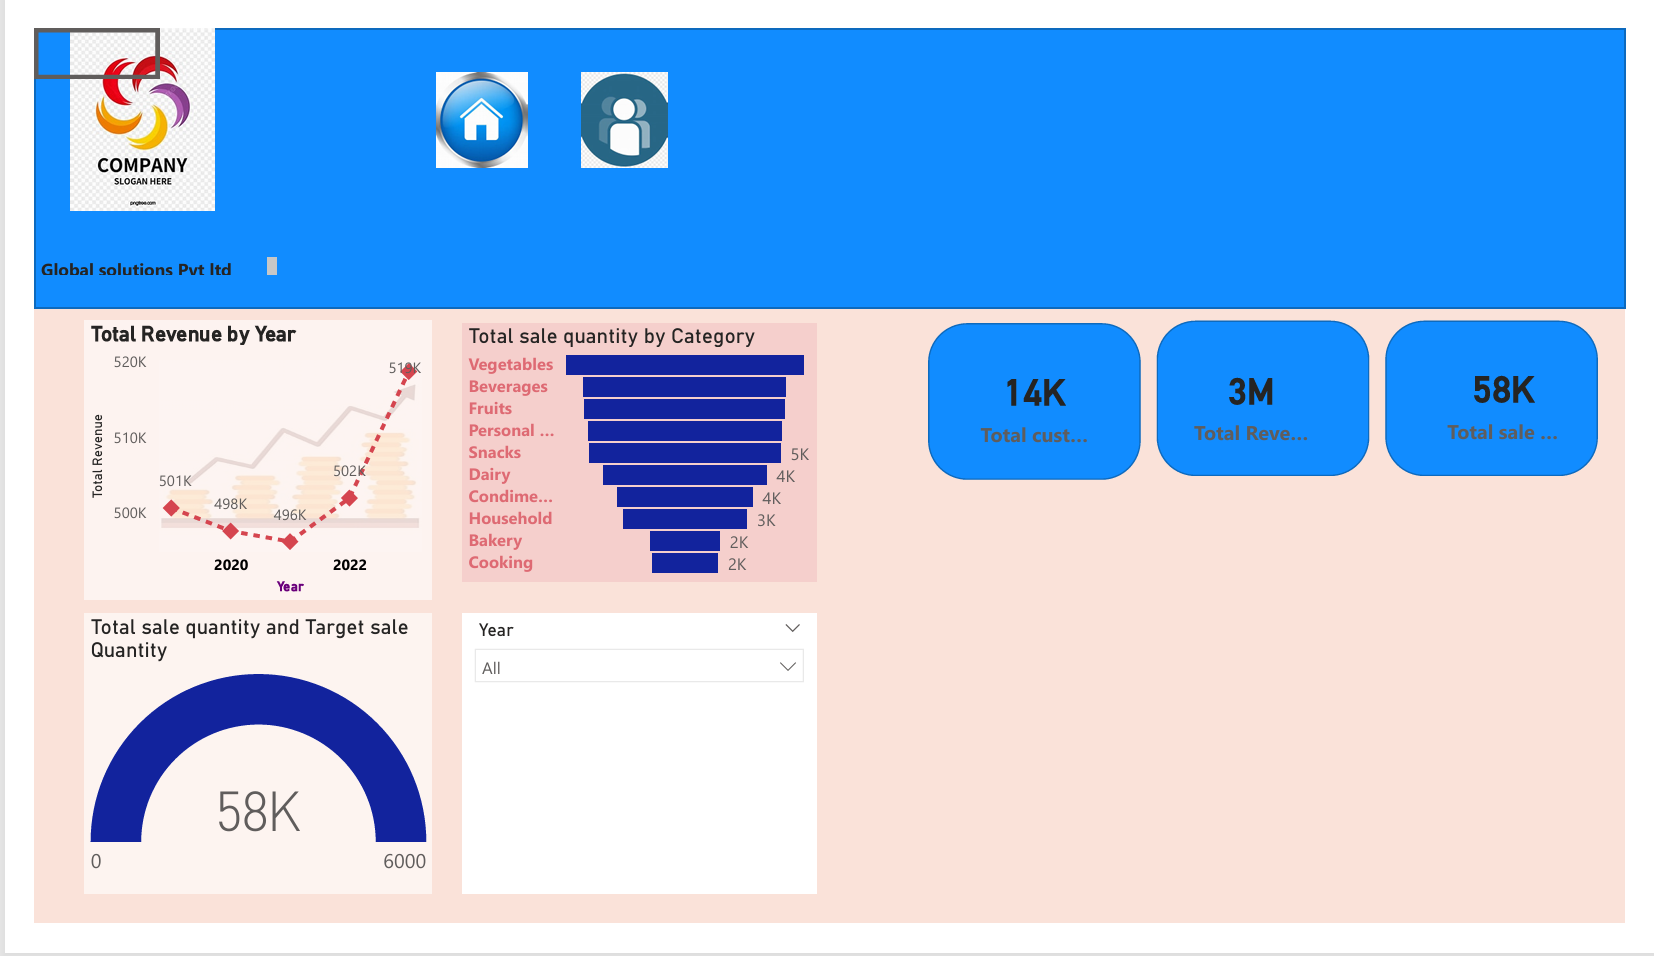

This screenshot's page, from the dashboard's own definition file:
{"tool":"powerbi","page":{"name":"Dashboard","canvas":[1280,720],"ordinal":0},"visuals":[{"type":"shape","box":[0,0,1280,224.9],"z":0},{"type":"image","box":[26.8,0,120.5,147.3],"z":1000},{"type":"textbox","box":[0,179.1,200,24.4],"z":2000},{"type":"image","box":[310.5,34.9,98.8,76.7],"z":3000},{"type":"image","box":[426.7,34.9,95.3,76.7],"z":4000},{"type":"lineChart","fields":{"Y":["MY MEASURES.Total Revenue"],"Category":["calendar.Year"]},"box":[39.5,234.9,280.2,225.6],"z":5000},{"type":"shape","box":[718.6,237.2,170.9,125.6],"z":6000},{"type":"card","fields":{"Values":["MY MEASURES.Total customers"]},"box":[752.3,253.5,104.7,96.5],"z":7000},{"type":"shape","box":[903.5,234.9,170.9,125.6],"z":8000},{"type":"shape","box":[1087.2,234.9,170.9,125.6],"z":9000},{"type":"card","fields":{"Values":["MY MEASURES.Total Revenue"]},"box":[926.7,252.3,104.7,96.5],"z":10000},{"type":"card","fields":{"Values":["MY MEASURES.Total sale quantity"]},"box":[1129.1,251.2,104.7,96.5],"z":11000},{"type":"funnel","fields":{"Y":["MY MEASURES.Total sale quantity"],"Category":["Products.Category"]},"box":[344.2,237.2,284.9,208.1],"z":12000},{"type":"gauge","fields":{"Y":["MY MEASURES.Total sale quantity"],"MaxValue":["MY MEASURES.Target sale Quantity"]},"box":[40,471,280,226],"z":13000},{"type":"slicer","fields":{"Values":["calendar.Year"]},"box":[344,471,285,226],"z":14000},{"type":"actionButton","box":[0,0,100,39.5],"z":15000}]}

Visuals, with their boxes in screenshot pixels (x1, y1, x2, y2), scaled from the page's 1280x720 canvas onto the 1654x956 screenshot:
shape: {"x1": 0, "y1": 0, "x2": 1653, "y2": 299}
image: {"x1": 35, "y1": 0, "x2": 190, "y2": 196}
textbox: {"x1": 0, "y1": 238, "x2": 258, "y2": 270}
image: {"x1": 401, "y1": 46, "x2": 529, "y2": 148}
image: {"x1": 551, "y1": 46, "x2": 675, "y2": 148}
lineChart - MY MEASURES.Total Revenue x calendar.Year: {"x1": 51, "y1": 312, "x2": 413, "y2": 611}
shape: {"x1": 929, "y1": 315, "x2": 1149, "y2": 482}
card - MY MEASURES.Total customers: {"x1": 972, "y1": 337, "x2": 1107, "y2": 465}
shape: {"x1": 1167, "y1": 312, "x2": 1388, "y2": 479}
shape: {"x1": 1405, "y1": 312, "x2": 1626, "y2": 479}
card - MY MEASURES.Total Revenue: {"x1": 1197, "y1": 335, "x2": 1333, "y2": 463}
card - MY MEASURES.Total sale quantity: {"x1": 1459, "y1": 334, "x2": 1594, "y2": 462}
funnel - MY MEASURES.Total sale quantity x Products.Category: {"x1": 445, "y1": 315, "x2": 813, "y2": 591}
gauge - MY MEASURES.Total sale quantity x MY MEASURES.Target sale Quantity: {"x1": 52, "y1": 625, "x2": 414, "y2": 925}
slicer - calendar.Year: {"x1": 445, "y1": 625, "x2": 813, "y2": 925}
actionButton: {"x1": 0, "y1": 0, "x2": 129, "y2": 52}
